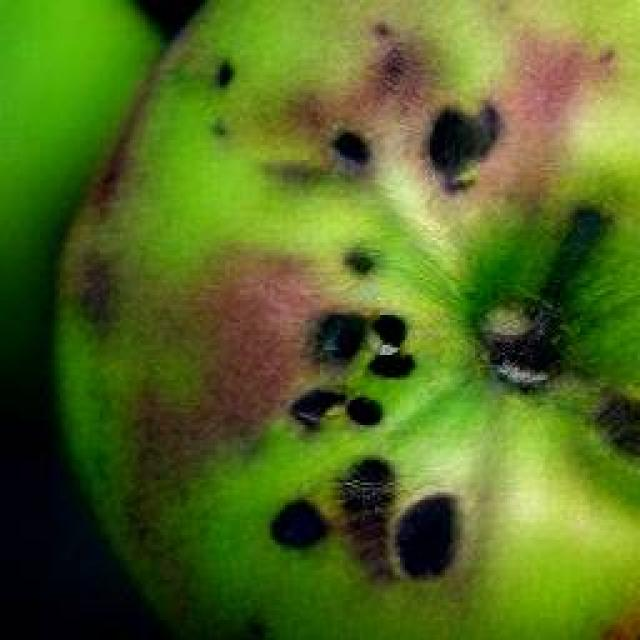defective: (48, 0, 638, 638)
